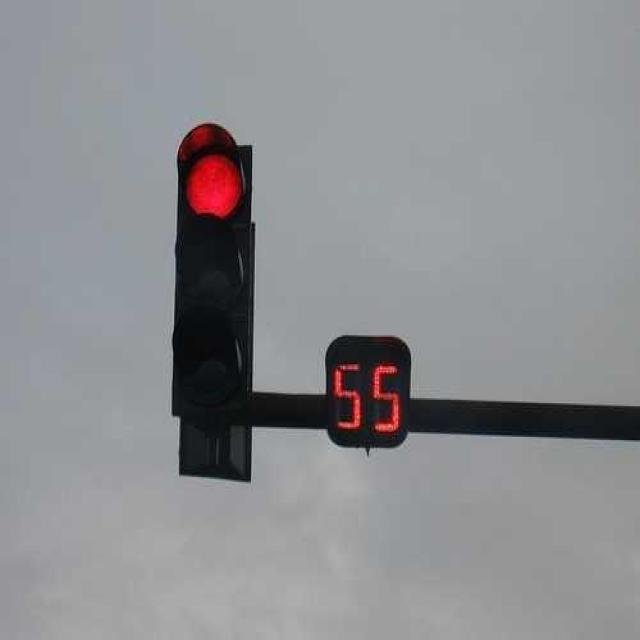Traffic Light -Red-: (165, 118, 265, 434)
